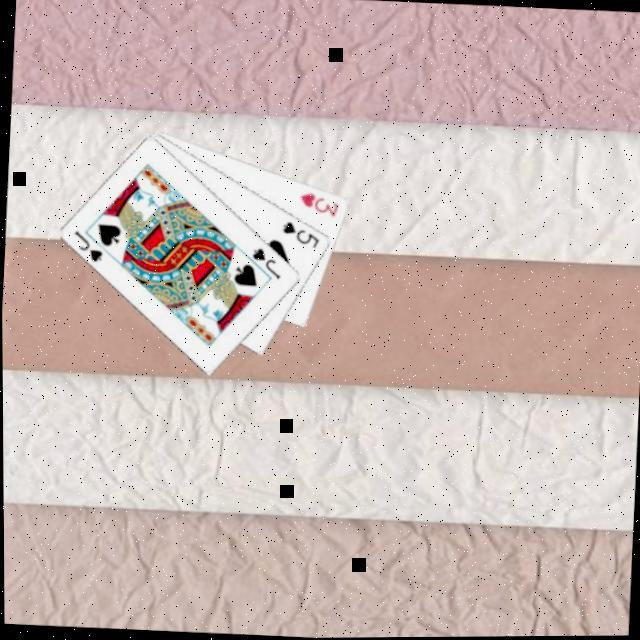3H: (296, 191, 341, 221)
5S: (278, 219, 322, 253)
JS: (68, 227, 106, 266), (246, 245, 283, 284)
